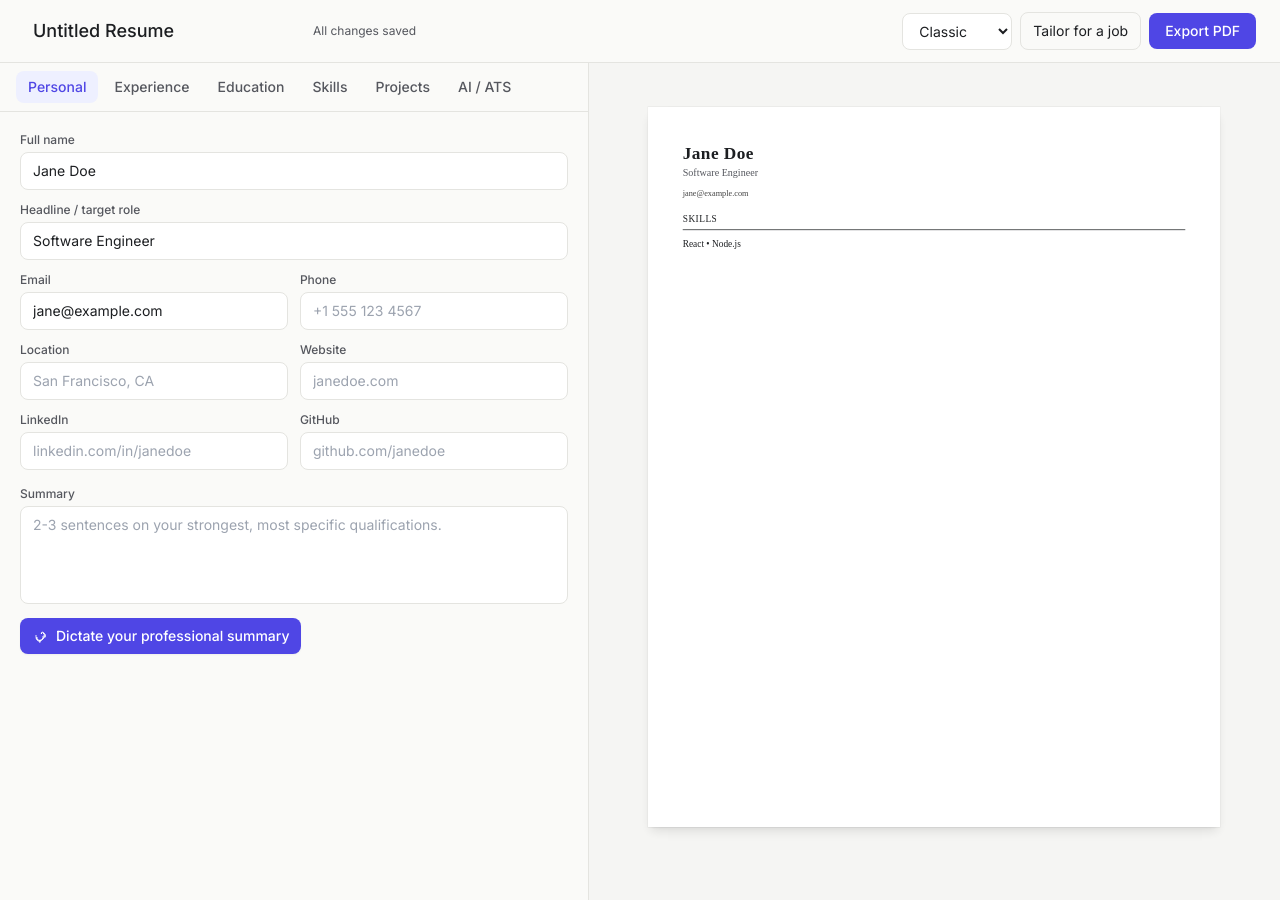
it: Editor: autosave reliability › still saves an edit made while an earlier save is in flight
Expected: the element with test id "resume-preview" is shown, left=649, top=107, right=1220, bottom=827
Select "Modern" in the dropdown: (957,31) left=902, top=12, right=1012, bottom=50
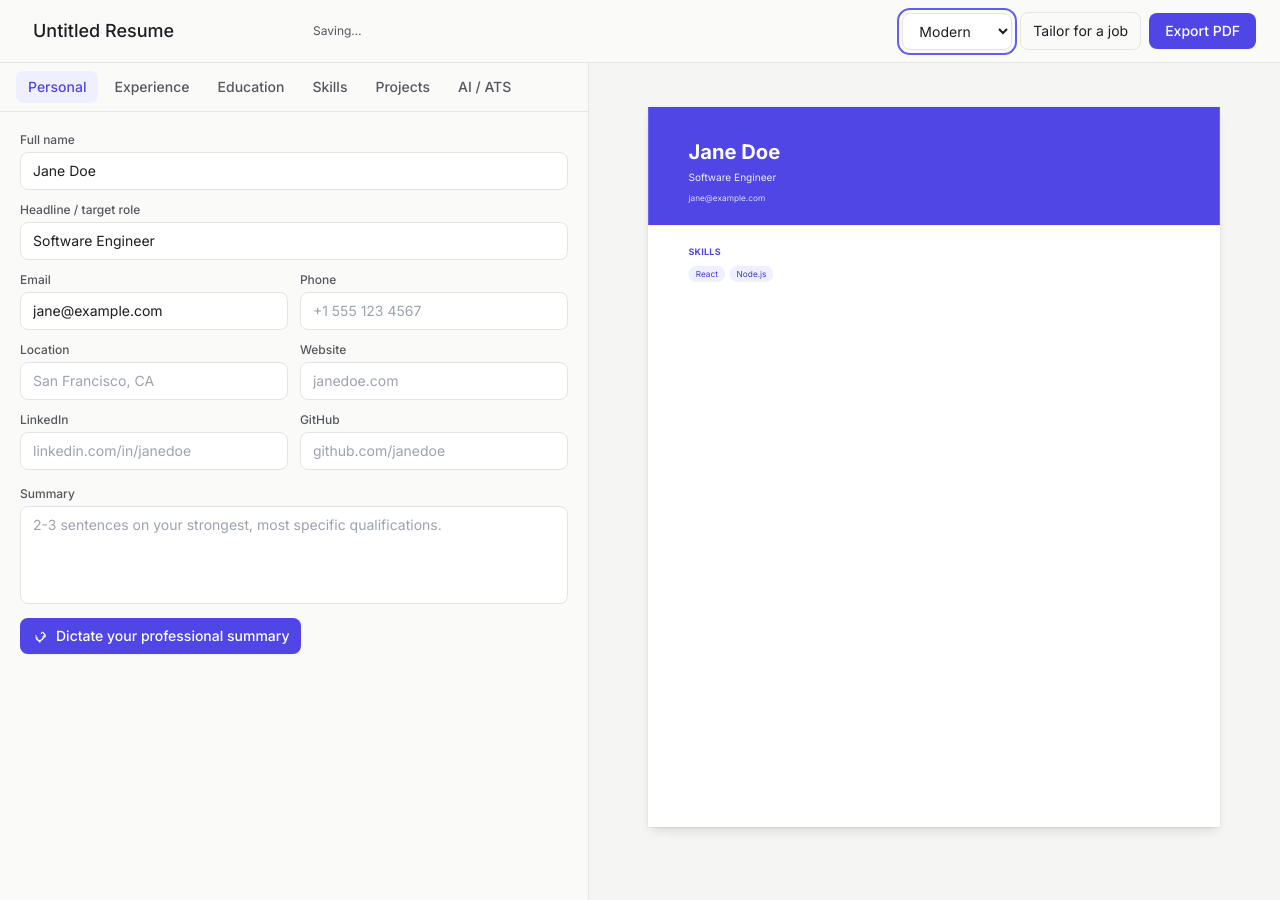
Select "Technical" in the dropdown: (957,31) left=902, top=12, right=1012, bottom=50
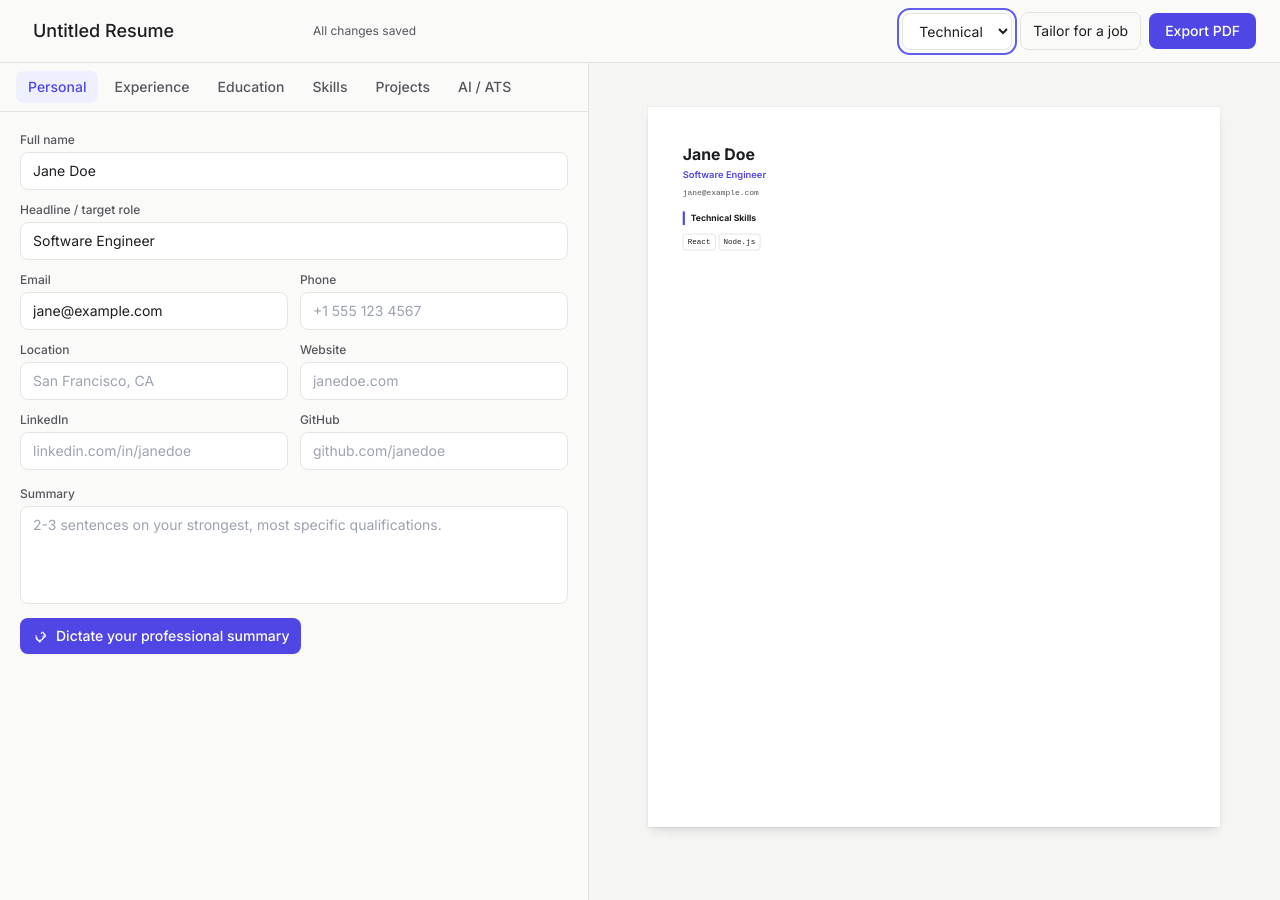
Expected: the text "All changes saved" is shown, left=313, top=23, right=416, bottom=39
